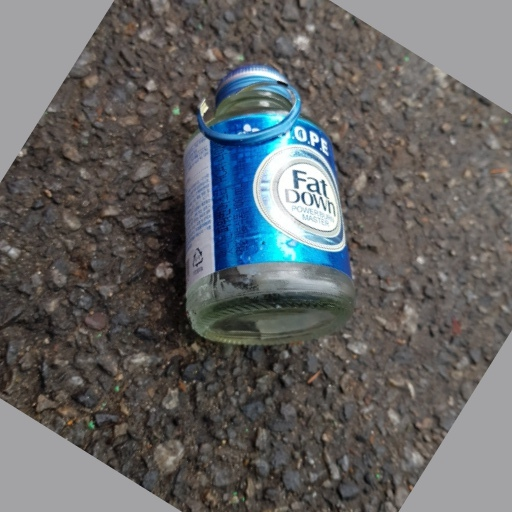Glass_4: (183, 61, 354, 348)
